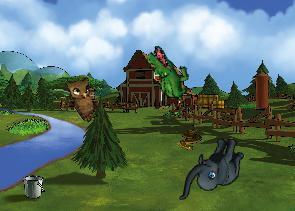crocodile: (134, 43, 203, 107)
elephant: (178, 130, 246, 209)
owl: (60, 70, 109, 124)
